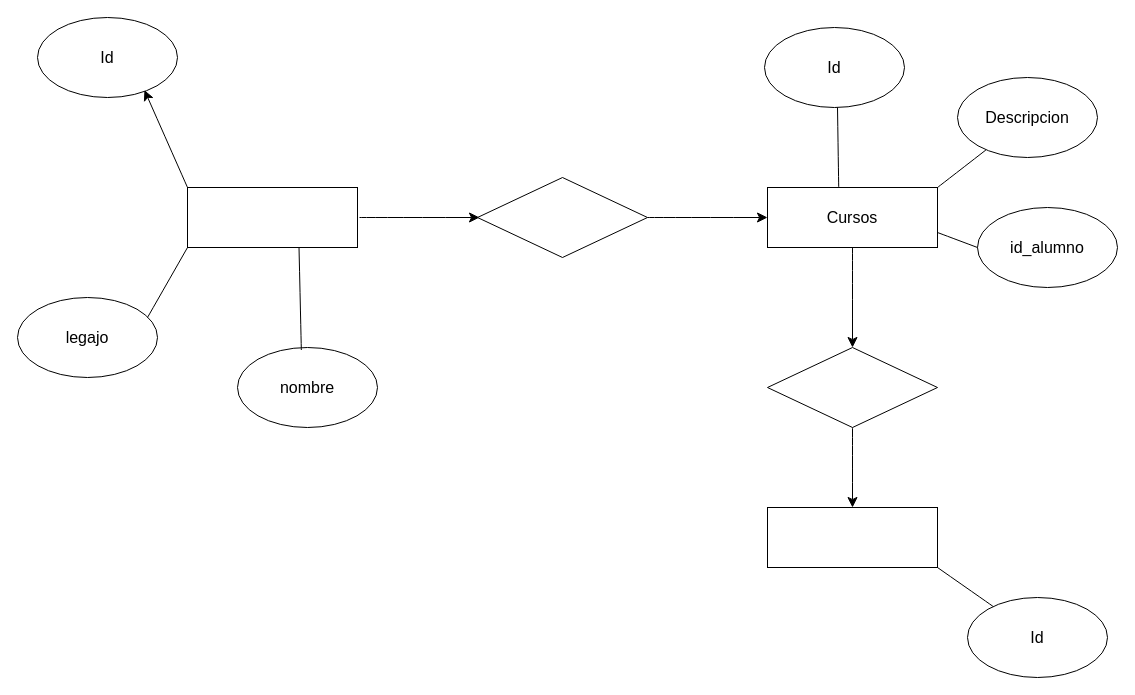
The diagram is 1135 pixels wide and 695 high, and some of its shapes have lost their labels. Here are the shapes that lost their labels. From the top down, the box of each, then its label:
(186, 186, 358, 248): Alumnos
(476, 176, 648, 258): Preferencia
(766, 346, 938, 428): Se imparte
(766, 506, 938, 568): Aula
